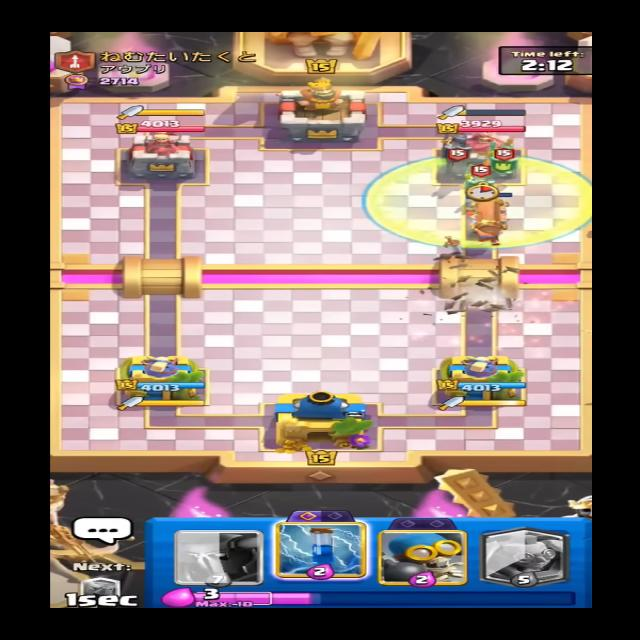Guards: (486, 140, 522, 173), (458, 162, 500, 189)
